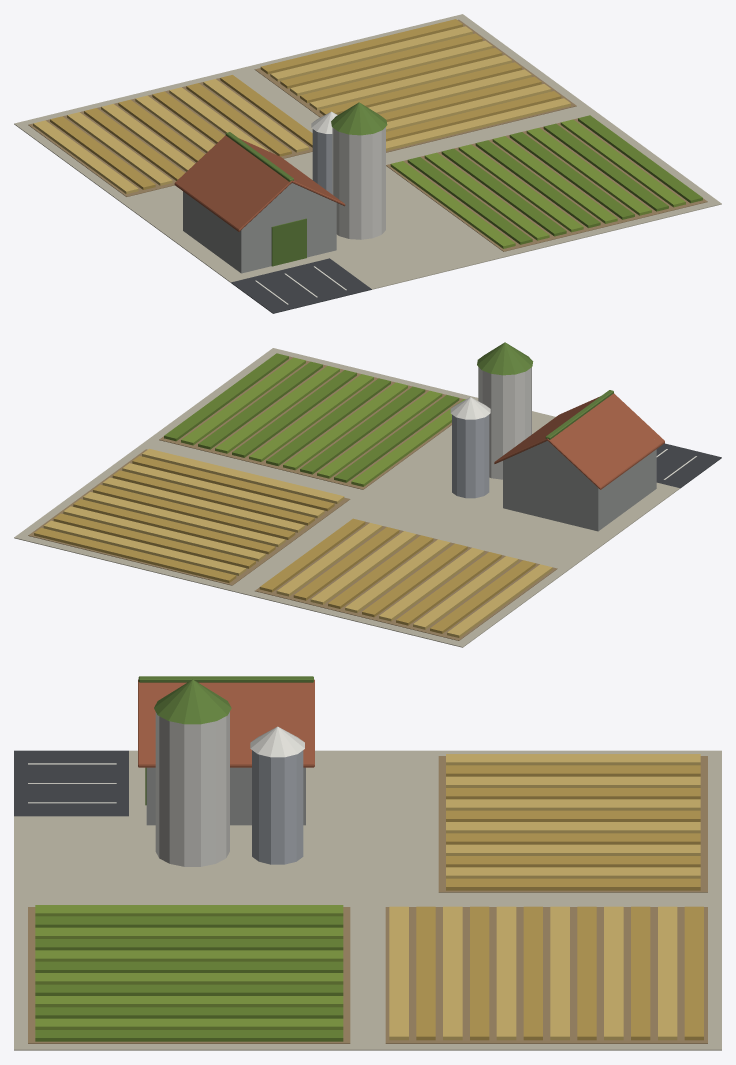
The model's file is farm.glb.
3 views of the same model, one above another, from view 1: azimuth 30°, elevation 25°; view 2: azimuth 150°, elevation 25°; view 3: azimuth 270°, elevation 25° (orthographic). The views are drawn at different scales.
Visible parts, largest first — view 1: farm; view 2: farm; view 3: farm.
Part boxes in pixels (x1,y1,x2,y2): farm: (14, 14, 721, 313); farm: (14, 342, 721, 647); farm: (14, 676, 721, 1050).
Size of the model in its own units: 40 by 10.8 by 40.
